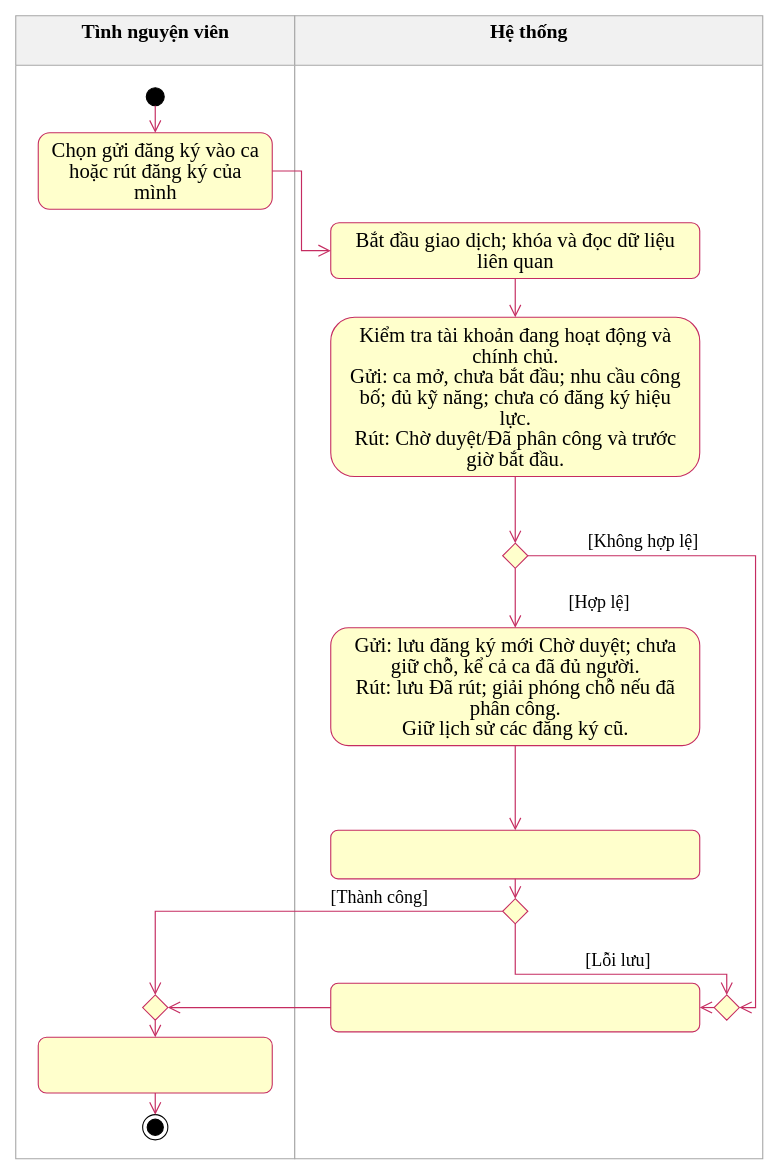
Image size: 784x1175. Some labels were removed from this diagram. Each missing label, with the box of its shape:
Hoàn tác; không đổi dữ liệu và trả lý do: (330, 982, 700, 1032)
Xem kết quả; sửa dữ liệu nếu được yêu cầu: (37, 1036, 272, 1093)
Xác nhận giao dịch của thao tác: (330, 829, 700, 879)
